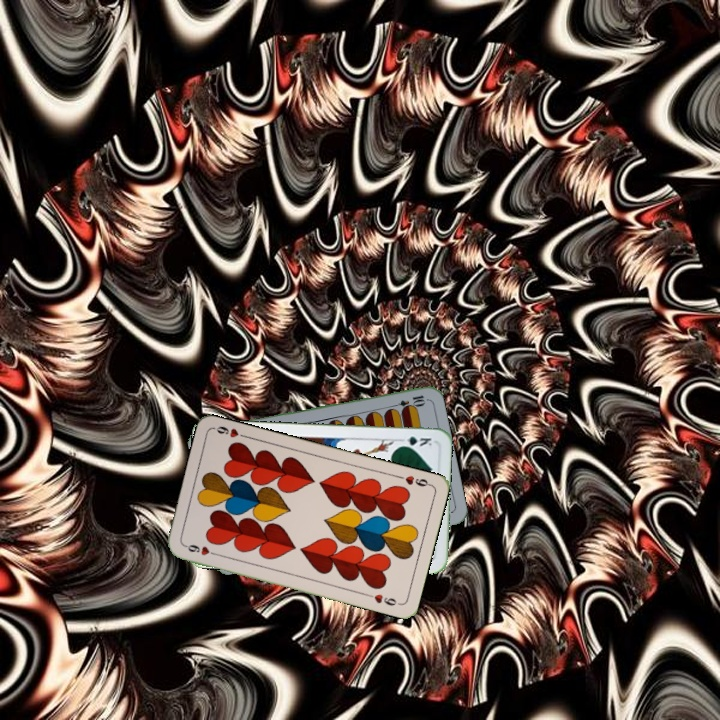E10: (387, 390, 428, 411)
GK: (395, 432, 434, 449)
H9: (394, 471, 434, 489), (181, 540, 220, 558)
